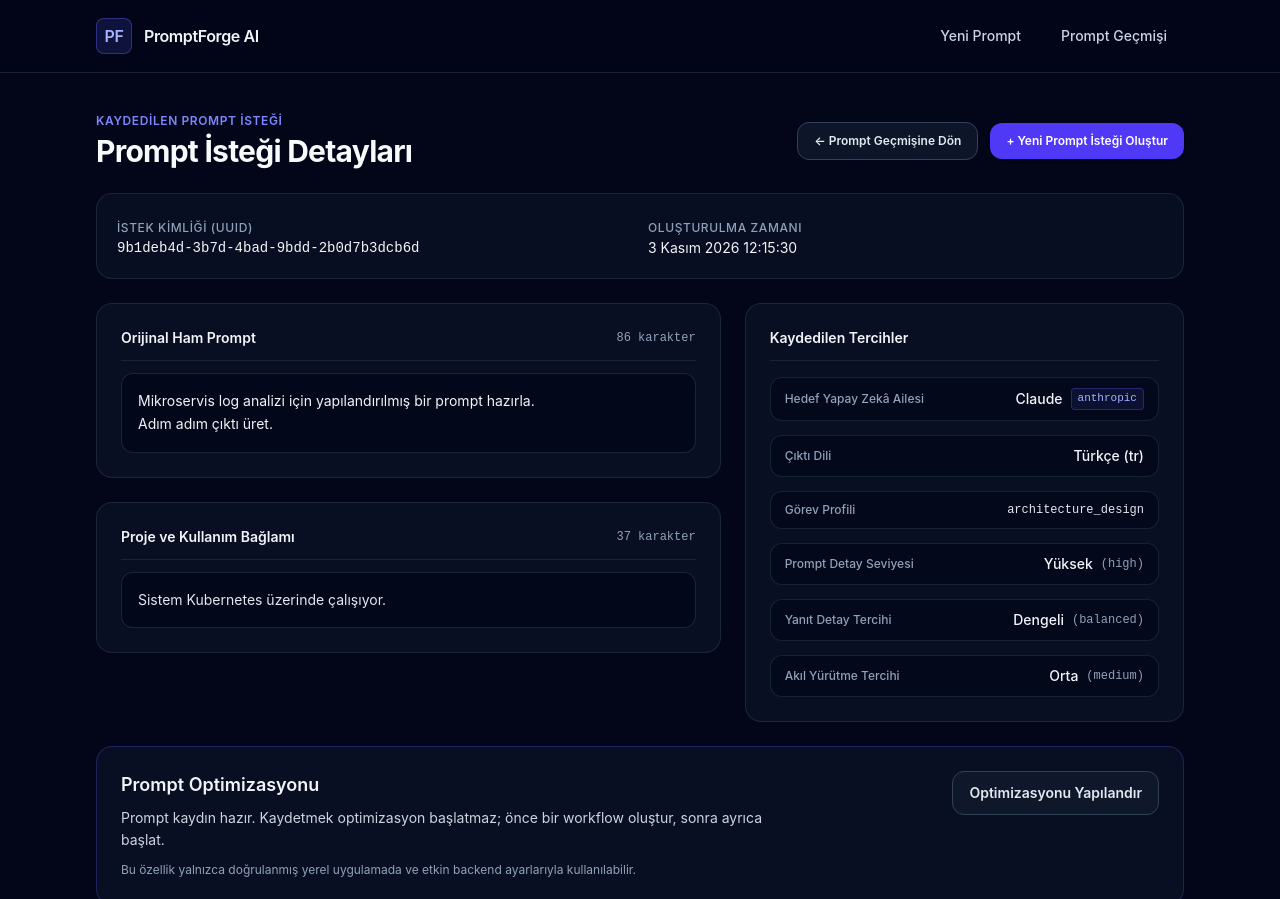
Test: Prompt request detail page and direct deep-link refresh behavior › loads saved prompt details via GET /api/v1/prompt-requests/:id without relying on navigation state and navigates back
Later steps or results of the test are not shown.
expect the heading "Prompt İsteği Detayları" is shown: met, box [96, 133, 412, 169]
expect the text "9b1deb4d-3b7d-4bad-9bdd-2b0d7b3dcb6d" is shown: met, box [117, 240, 420, 256]
# Navigate back to the new prompt page.
Click the link "+ Yeni Prompt İsteği Oluştur".
click(1087, 141)  # box [990, 123, 1184, 159]
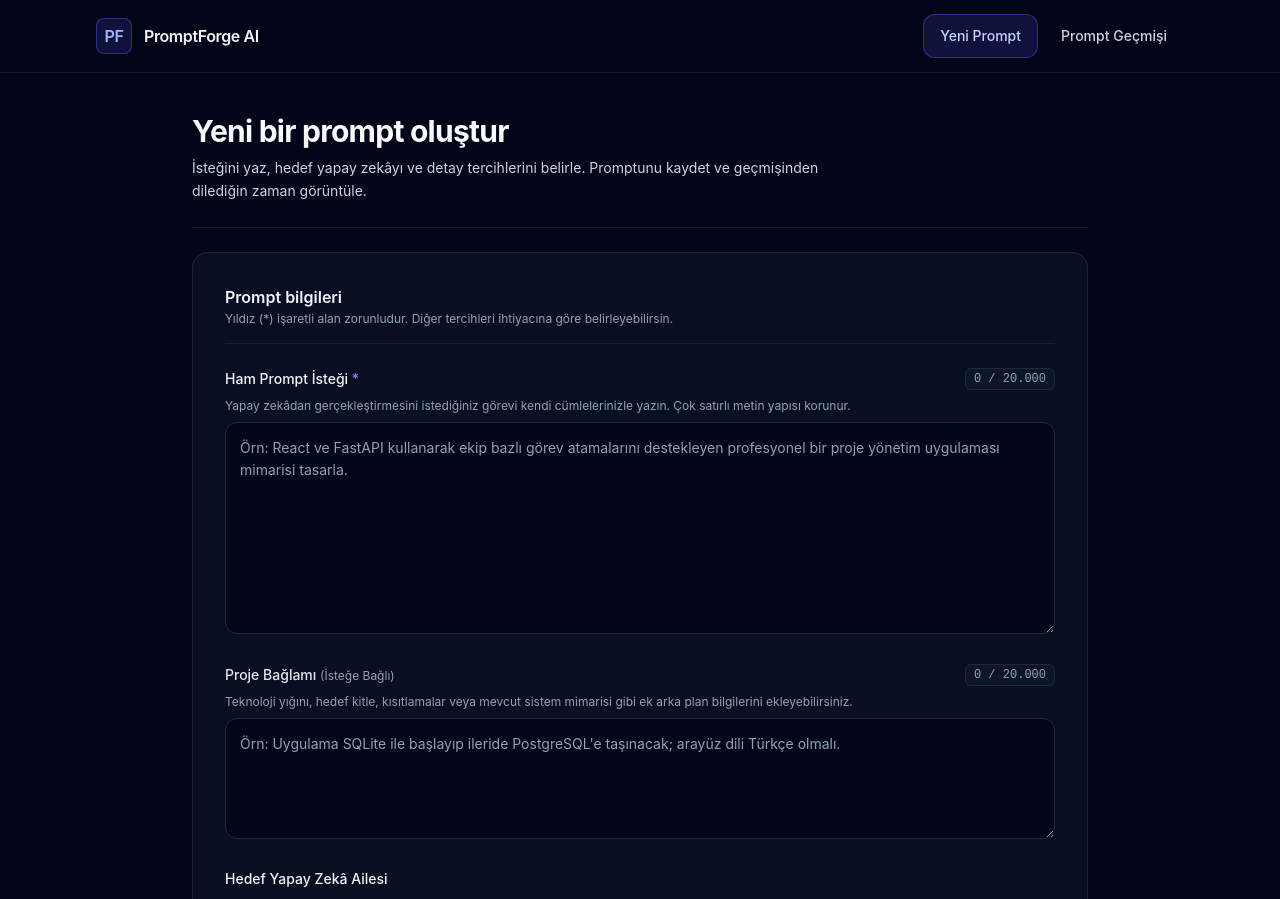
expect the text box labelled "Ham Prompt İsteği *" is shown: met, box [225, 422, 1055, 634]
